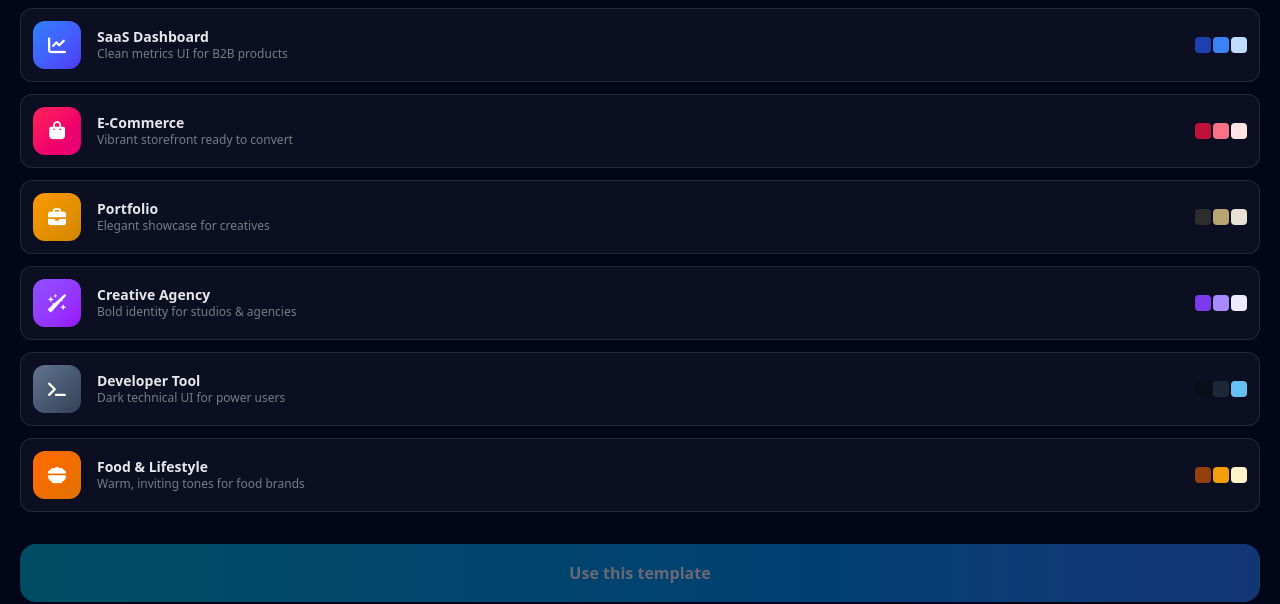
MobileTemplatePickStep › enables the CTA after a template is selected
This screenshot has width=1280, height=604.
Click the button "SaaS Dashboard" at point(57, 44), box left=20, top=8, right=1260, bottom=82
(page scrolled)
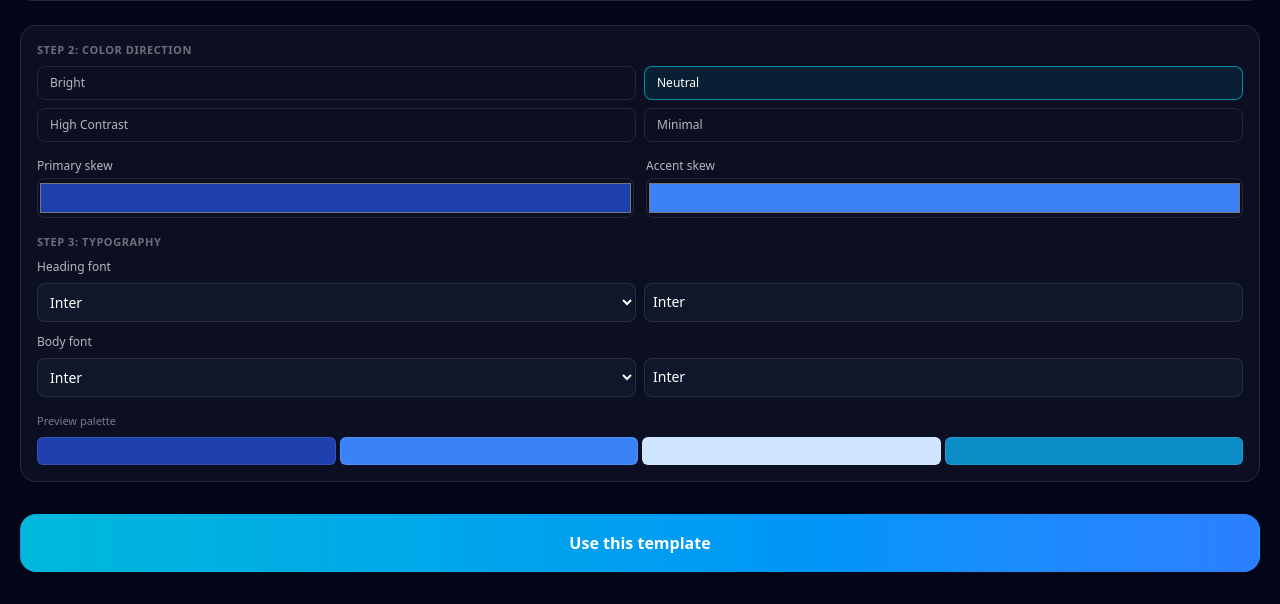
Expected: the button "Use this template" is enabled, left=20, top=514, right=1260, bottom=572
